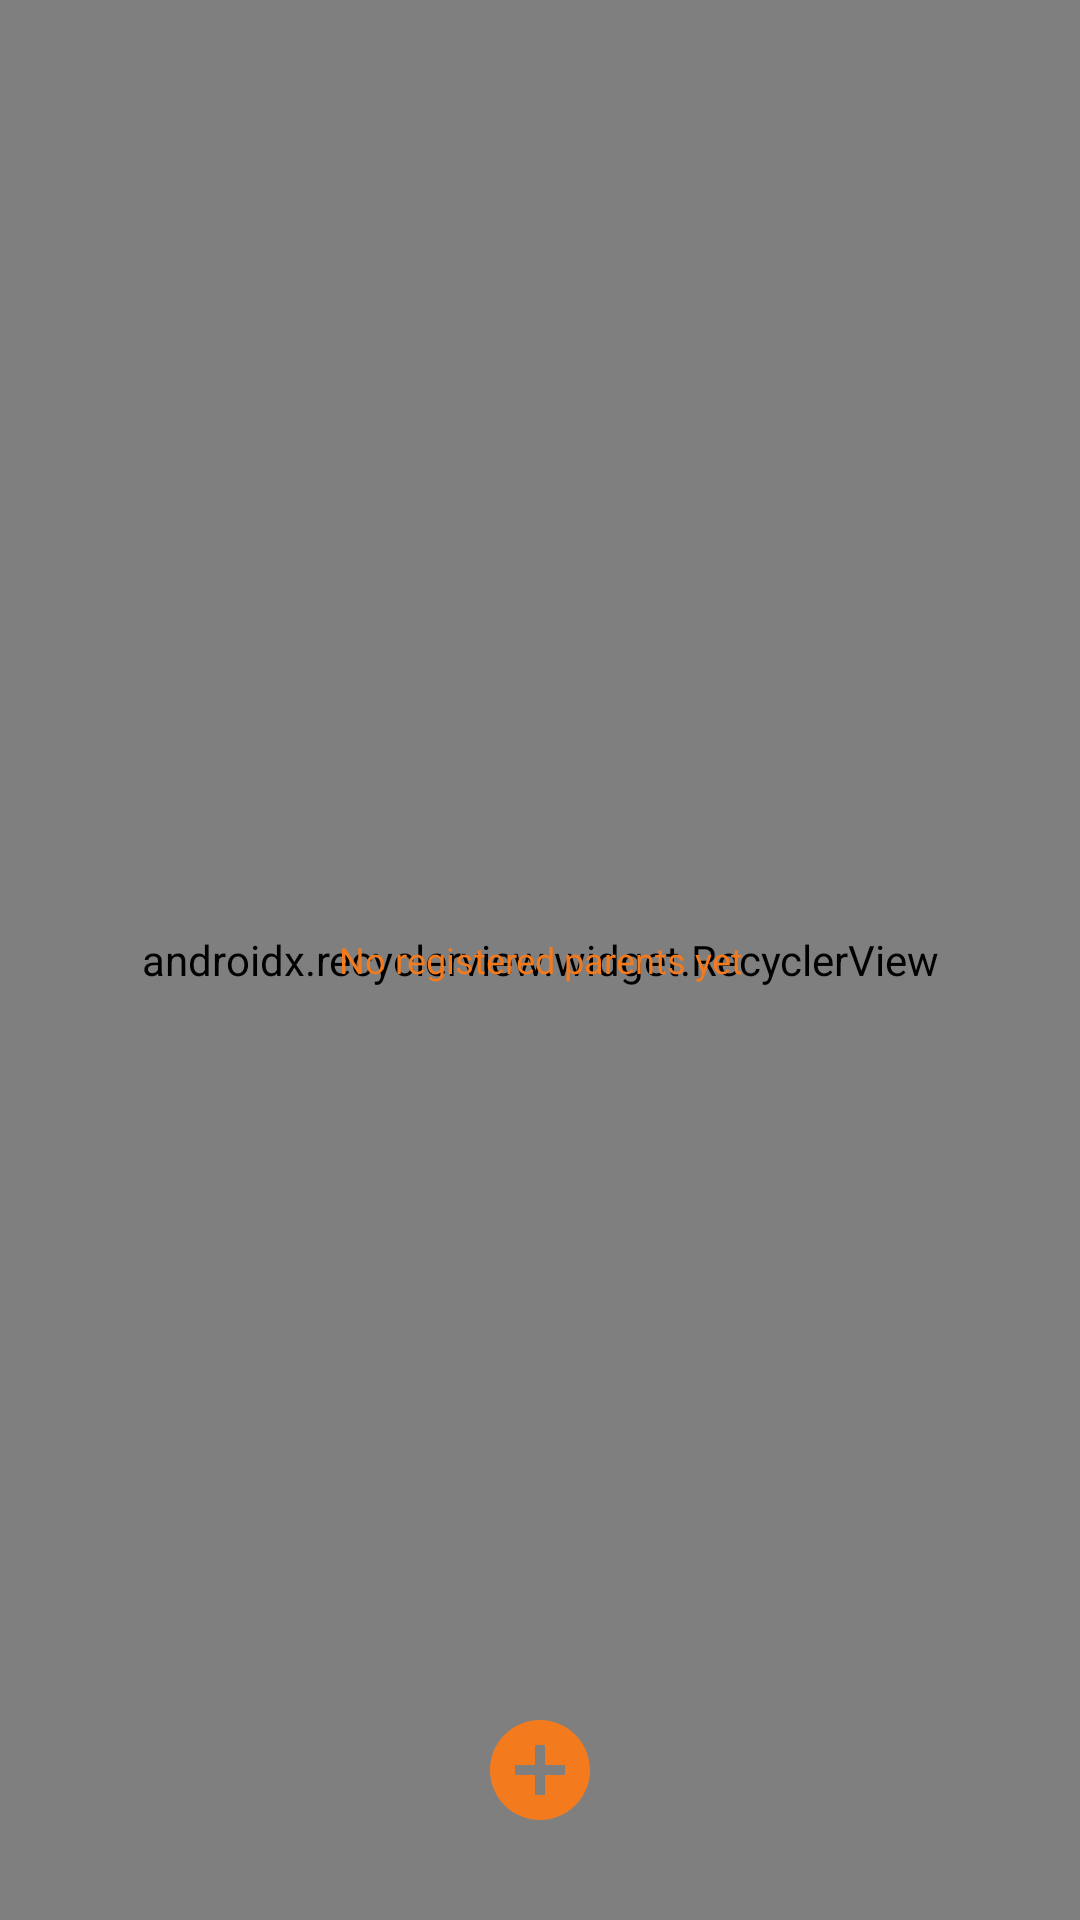

Screen size 1080px x 1920px. Icon name, then its center in pixels as (x=x, y=y):
add: (x=540, y=1770)
